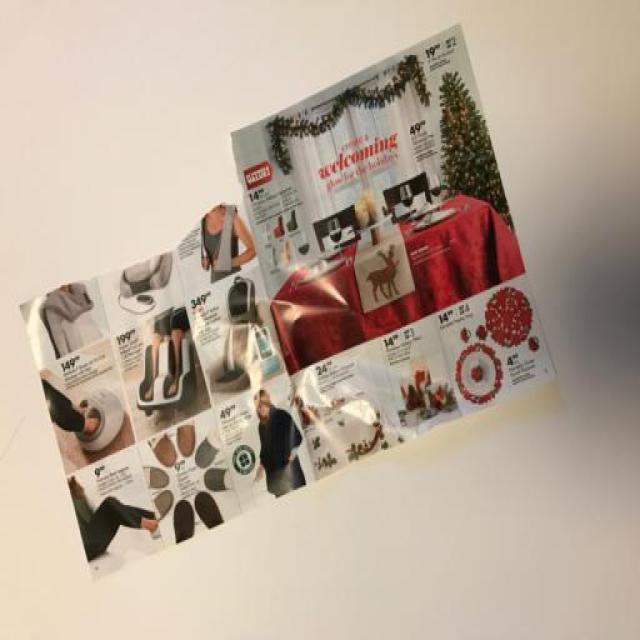paper: (19, 17, 556, 573)
